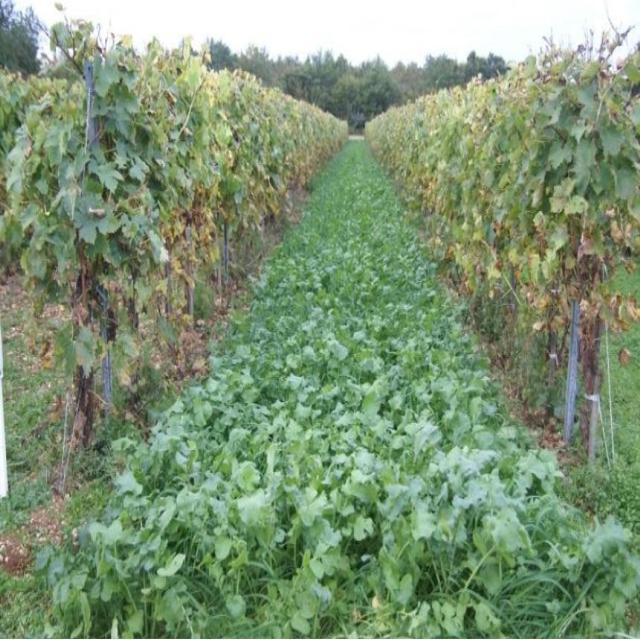row: (0, 137, 635, 640)
